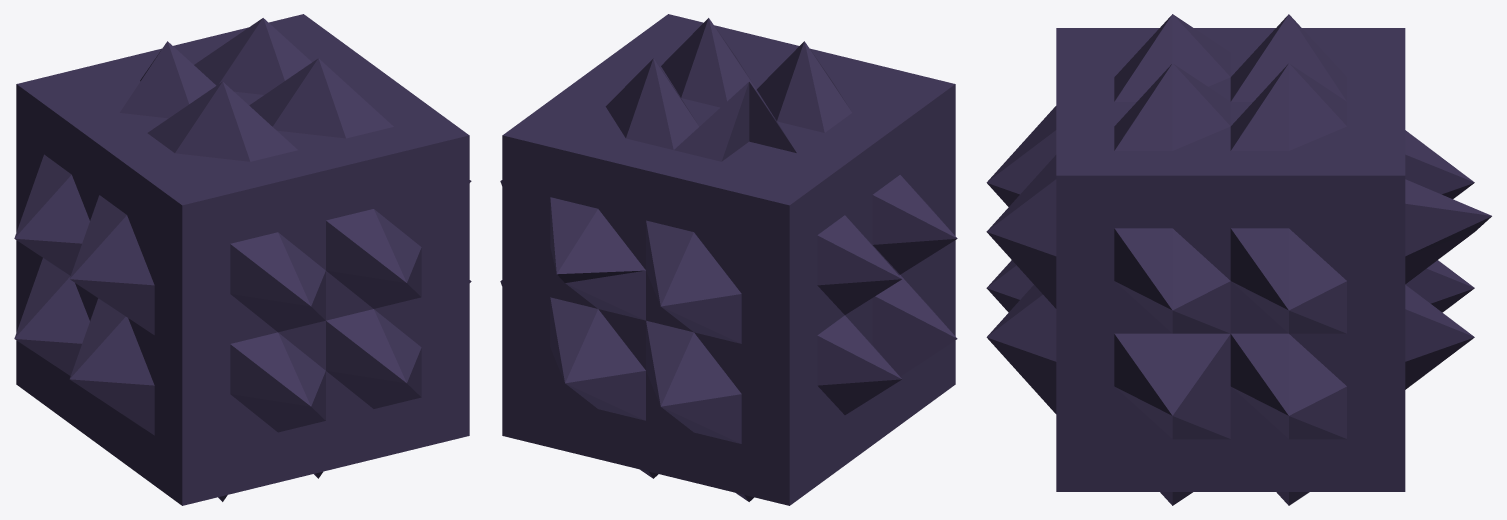
The model's file is SpikeBlock.fbx.
3 renders of one model, left to right at view 1: azimuth 30°, elevation 25°; view 2: azimuth 150°, elevation 25°; view 3: azimuth 270°, elevation 25°, orthographic. The views are drawn at different scales.
Parts seen in each view (by area): view 1: Cube; view 2: Cube; view 3: Cube.
Boxes of the visible parts, x1,y1,x2,y2 form: Cube: (14,14,471,505); Cube: (500,14,957,505); Cube: (986,14,1491,505).
Bounding box in the file's own units: 280 × 280 × 290.
